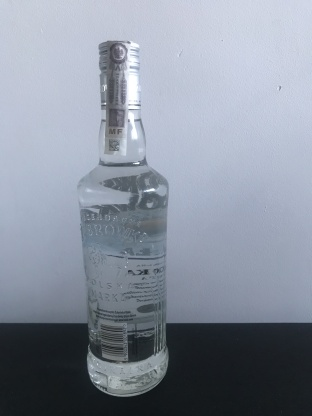nakretka: (95, 36, 144, 112)
